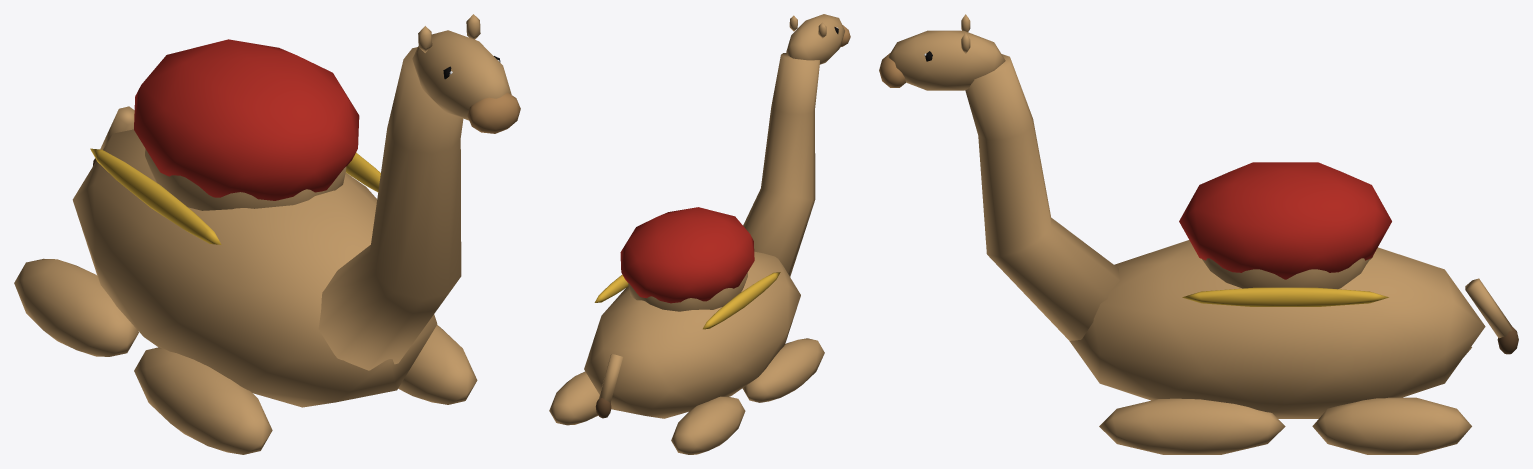
The model's file is camel.glb.
3 views of the same model, side by side, from view 1: azimuth 30°, elevation 25°; view 2: azimuth 150°, elevation 25°; view 3: azimuth 270°, elevation 25° (orthographic). The views are drawn at different scales.
Visible parts, largest first — view 1: camel.body, camel.neck, camel.tail; view 2: camel.body, camel.neck, camel.tail; view 3: camel.body, camel.neck, camel.tail.
Boxes of the visible parts, x1=… form: camel.body: x1=14, y1=39, x2=477, y2=454; camel.neck: x1=318, y1=14, x2=520, y2=370; camel.tail: x1=93, y1=106, x2=134, y2=165; camel.body: x1=549, y1=207, x2=824, y2=454; camel.neck: x1=743, y1=14, x2=850, y2=276; camel.tail: x1=595, y1=353, x2=622, y2=418; camel.body: x1=1069, y1=162, x2=1485, y2=454; camel.neck: x1=879, y1=14, x2=1119, y2=340; camel.tail: x1=1465, y1=278, x2=1518, y2=354.
Bounding box in the file's own units: 1.88 × 3.23 × 4.8.
